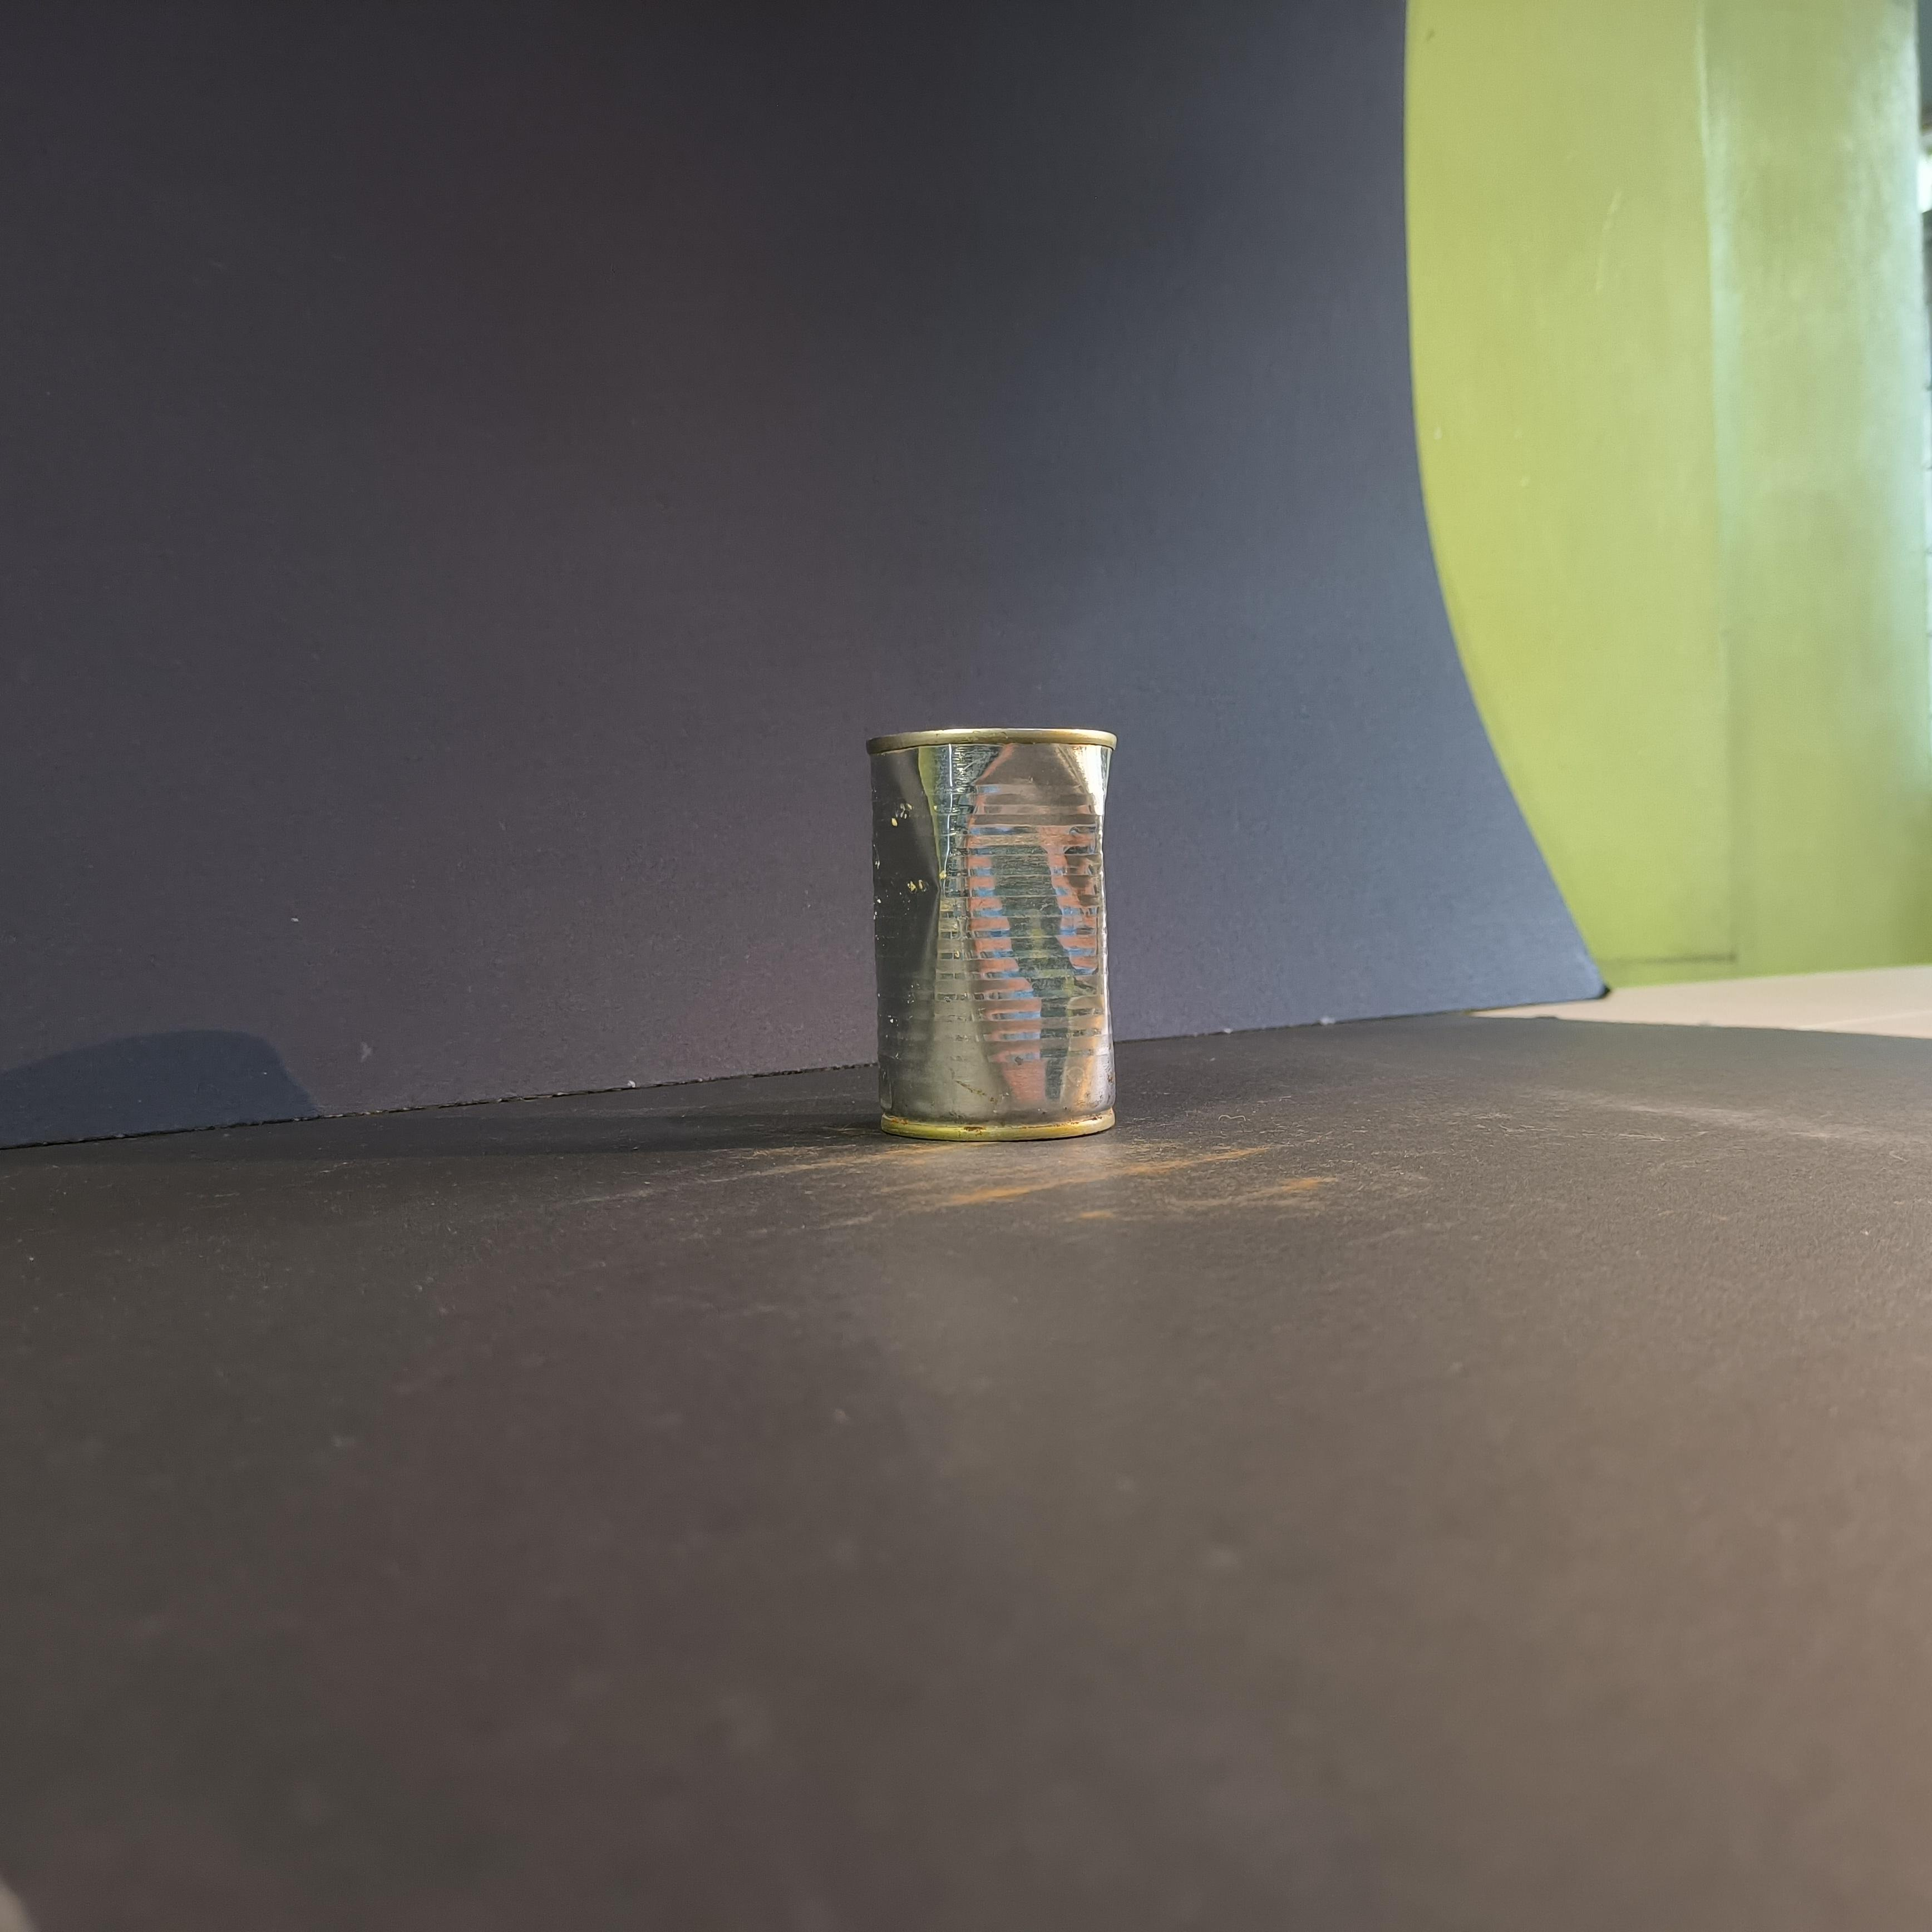Dented: (849, 701, 1144, 1160)
